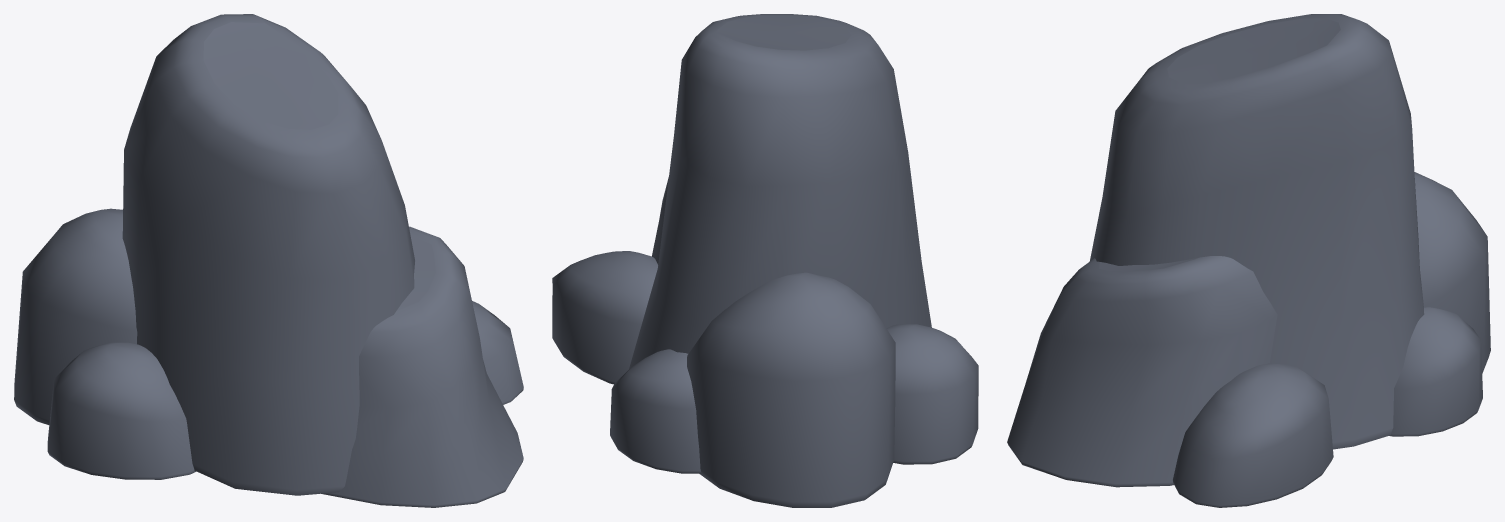
File: M_flip_rock2.fbx
3 views of the same model, side by side, from view 1: azimuth 30°, elevation 25°; view 2: azimuth 150°, elevation 25°; view 3: azimuth 270°, elevation 25° (orthographic). The views are drawn at different scales.
Visible parts, largest first — view 1: pSphere1, pSphere3, pSphere5, pSphere6, pSphere7; view 2: pSphere1, pSphere5, pSphere6, pSphere7, pSphere4; view 3: pSphere1, pSphere3, pSphere7, pSphere4, pSphere5.
Part boxes in pixels (left/top/right/bottom): pSphere1: left=122, top=14, right=414, bottom=495; pSphere3: left=321, top=226, right=523, bottom=507; pSphere5: left=14, top=208, right=137, bottom=424; pSphere6: left=47, top=342, right=196, bottom=479; pSphere7: left=472, top=301, right=523, bottom=404; pSphere1: left=629, top=14, right=931, bottom=368; pSphere5: left=687, top=272, right=895, bottom=507; pSphere6: left=886, top=324, right=978, bottom=464; pSphere7: left=552, top=251, right=657, bottom=384; pSphere4: left=610, top=349, right=701, bottom=473; pSphere1: left=1089, top=14, right=1424, bottom=449; pSphere3: left=1007, top=256, right=1277, bottom=487; pSphere7: left=1173, top=363, right=1333, bottom=507; pSphere4: left=1389, top=307, right=1482, bottom=436; pSphere5: left=1414, top=172, right=1490, bottom=373.
Size of the model in its own units: 28.93 by 24.63 by 28.34.
